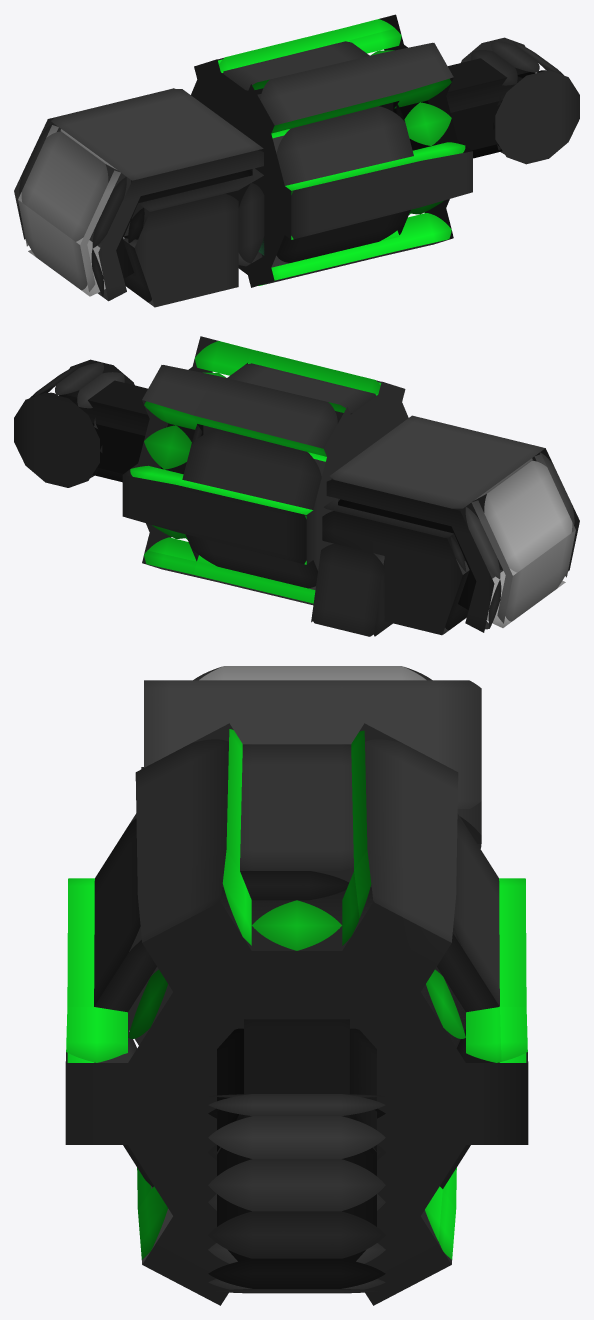
File: RadioVillain_ArmL.obj
The picture shows the model from 3 angles, top to bottom: view 1: azimuth 30°, elevation 25°; view 2: azimuth 150°, elevation 25°; view 3: azimuth 270°, elevation 25°; orthographic projection. The views are drawn at different scales.
Parts seen in each view (by area): view 1: cylinder, cuboid, Arm; view 2: cylinder, cuboid, Arm; view 3: cylinder, cuboid, Arm.
Part boxes in pixels (box(x1,y1,x2,y2)): cylinder: box(191, 14, 579, 287); cuboid: box(14, 88, 264, 307); Arm: box(393, 58, 534, 158); cylinder: box(14, 336, 408, 604); cuboid: box(311, 415, 579, 636); Arm: box(59, 380, 203, 482); cylinder: box(65, 723, 528, 1305); cuboid: box(141, 666, 481, 1047); Arm: box(217, 1019, 376, 1261).
Size of the model in its own units: 0.8193 by 0.3166 by 0.325.
Materials: 1 (1 with a texture image).
